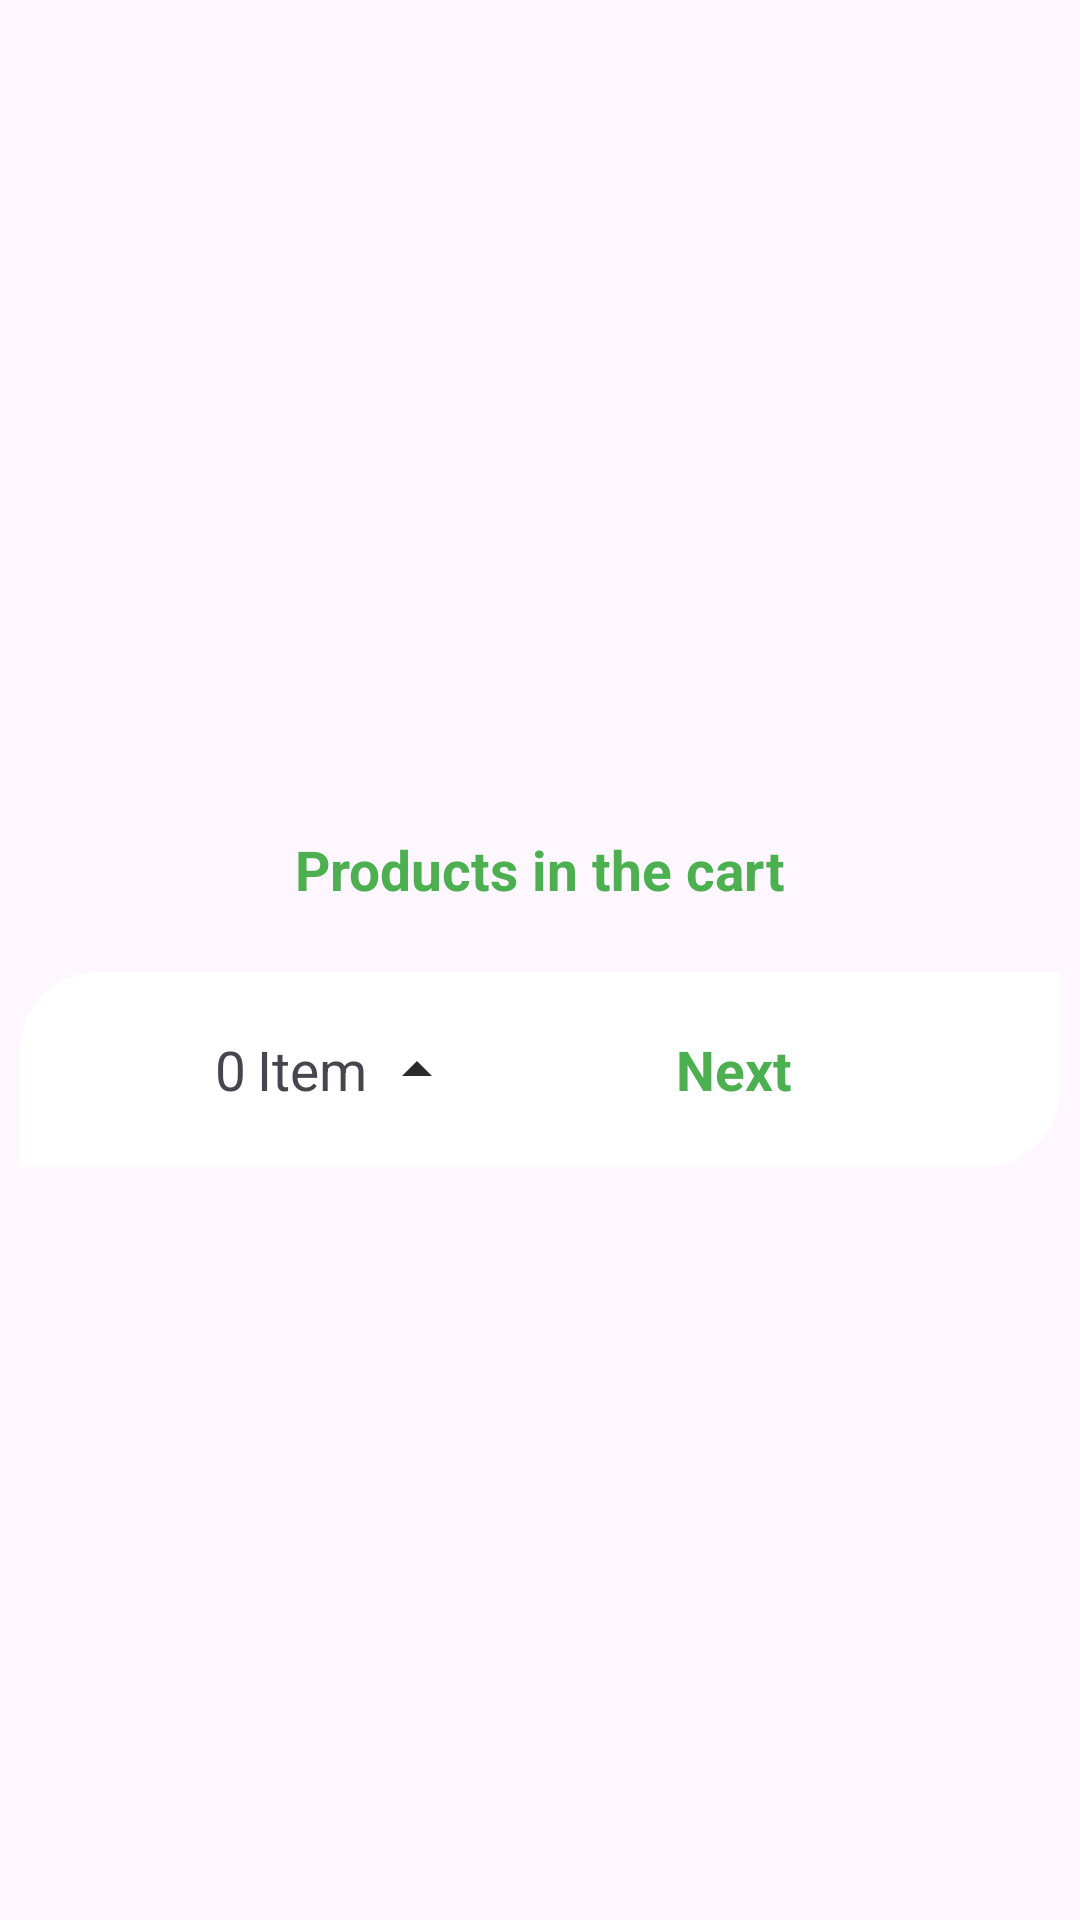

Screen size 1080px x 1920px. Icon name, then its box in pixels as box=[x1, y1, x2, y2]:
arrow drop up: box=[402, 1061, 432, 1076]
